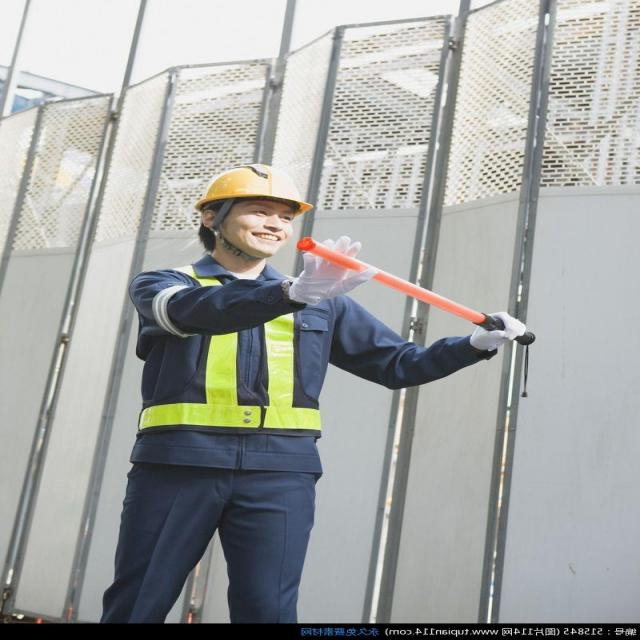Reflective-Jacket: (131, 257, 341, 442)
Safety-Helmet: (191, 157, 320, 215)
